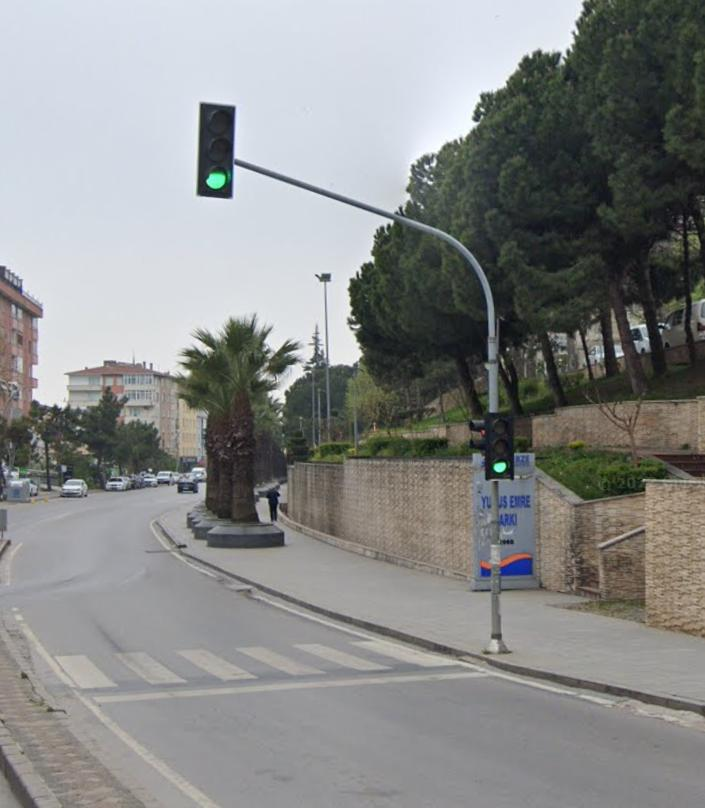greenlight: (199, 105, 234, 194), (487, 413, 511, 475)
